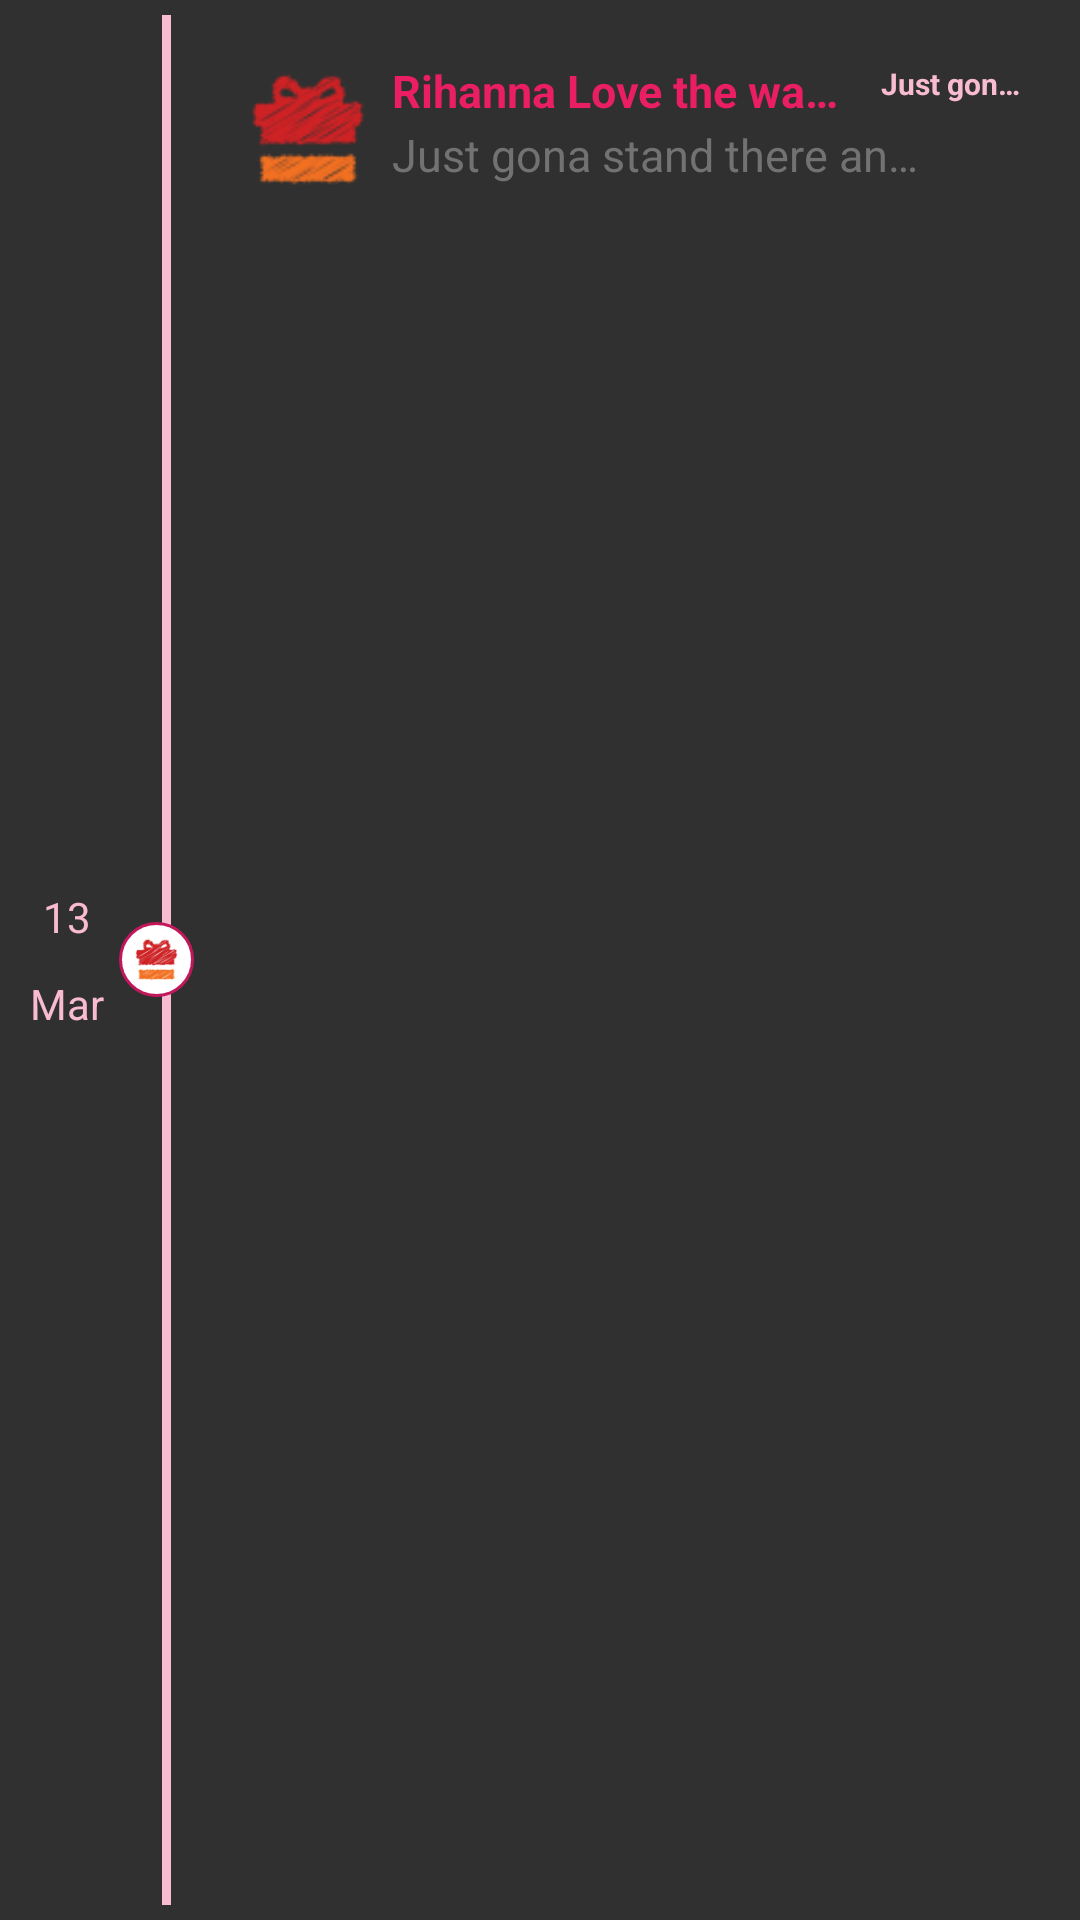

Icons on this 1080 × 1920 Android screen, each with its box as (x1, y1, x2, y2):
gift: (252, 75, 364, 185), (119, 922, 194, 997)
